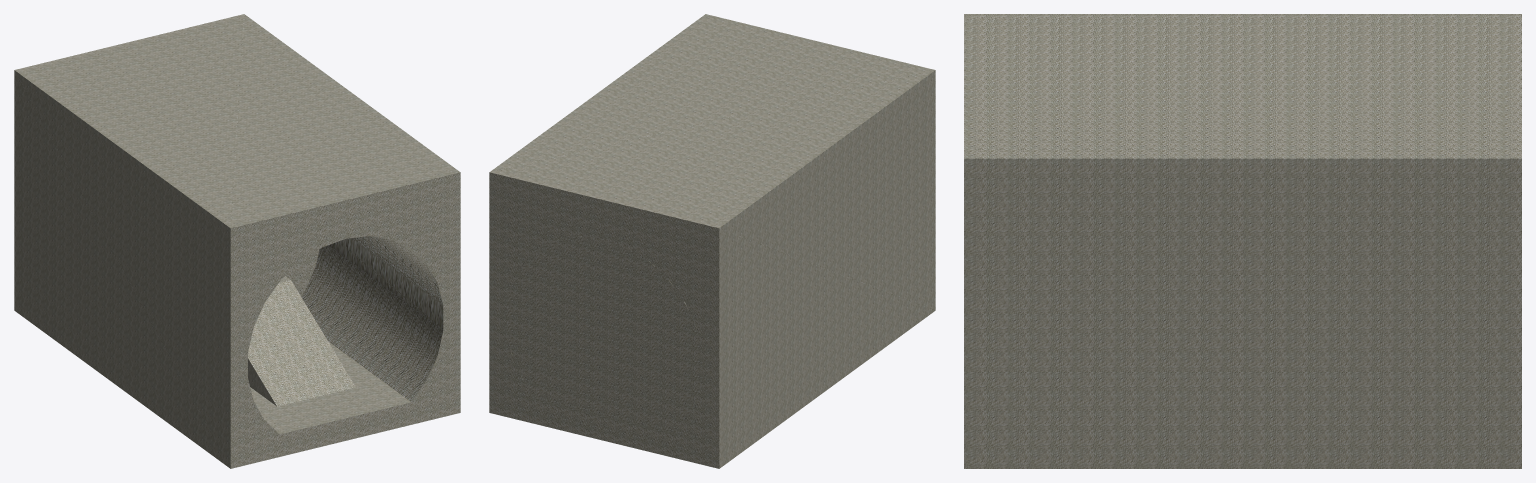
The model's file is ExcavThreeStepPreserveCore8.glb.
The picture shows the model from 3 angles, left to right: view 1: azimuth 30°, elevation 25°; view 2: azimuth 150°, elevation 25°; view 3: azimuth 270°, elevation 25°; orthographic projection. The views are drawn at different scales.
Size of the model in its own units: 16 by 16 by 26.08.
Materials: 1 (1 with a texture image).
